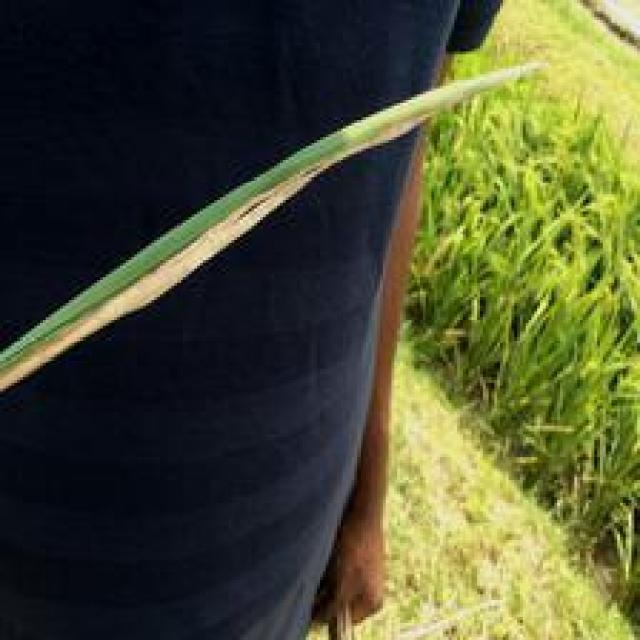Rice_Bacterial_Blight: (14, 157, 337, 369)
